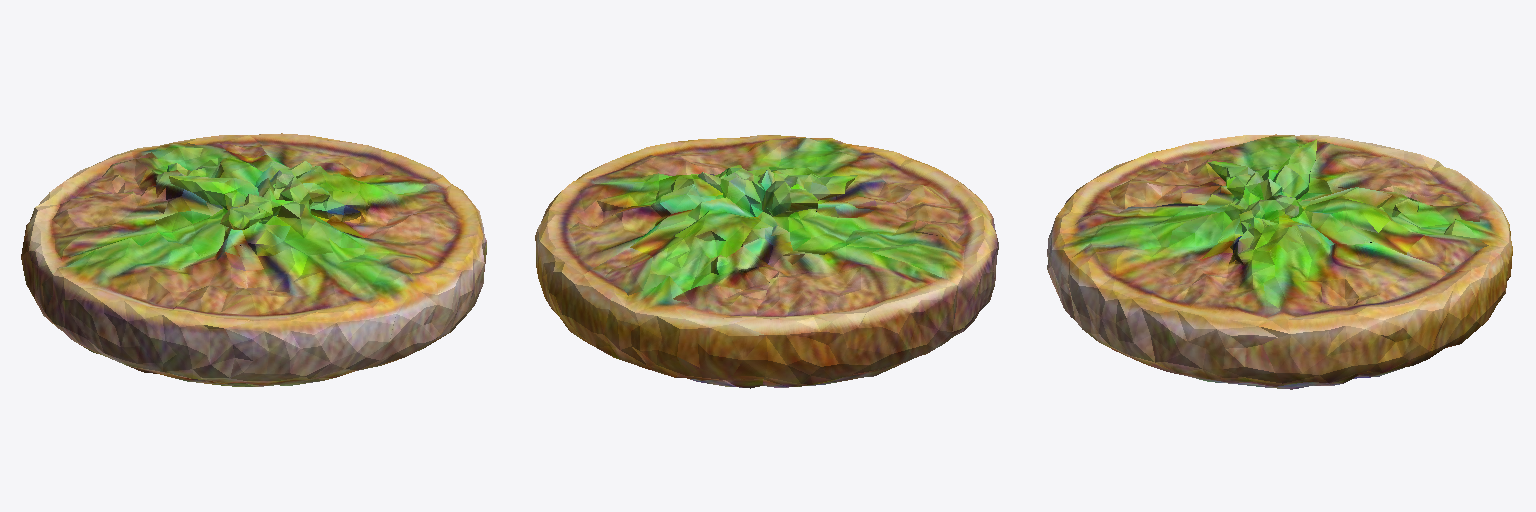
3 renders of one model, left to right at view 1: azimuth 30°, elevation 25°; view 2: azimuth 150°, elevation 25°; view 3: azimuth 270°, elevation 25°, orthographic.
Parts seen in each view (by area): view 1: Mesh1; view 2: Mesh1; view 3: Mesh1.
Boxes of the visible parts, x1,y1,x2,y2 form: Mesh1: [21, 133, 486, 386]; Mesh1: [535, 135, 998, 388]; Mesh1: [1047, 134, 1512, 389].
Size of the model in its own units: 1.19 by 0.4733 by 1.2.
1 materials, 1 textured.